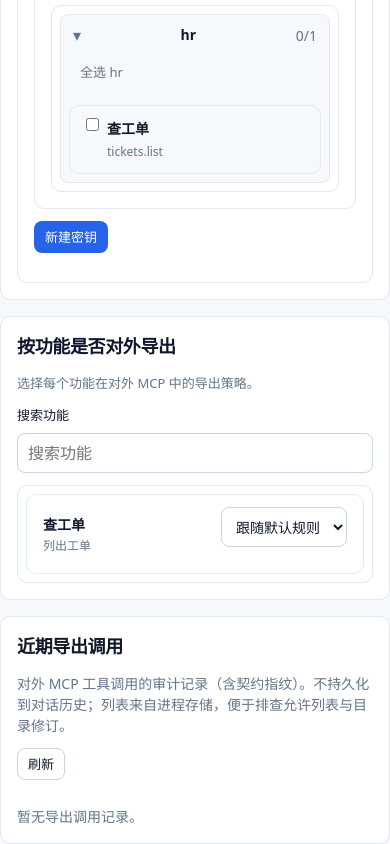
Test: McpExportSettings page › lists tools for per-tool export and patches force_allow
(page scrolled)
Check: the list with test id "mcp-export-tools-list" is shown, box [17, 486, 373, 583]
Check: the element with test id "mcp-export-allowlist-tree" is shown, box [51, 5, 339, 192]
Select "必须导出" in the dropdown named "查工单 导出策略". click: (284, 528)
box: [221, 508, 347, 548]
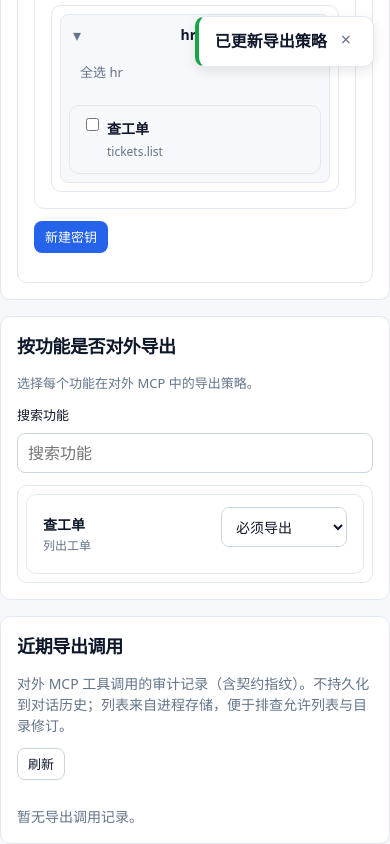
Check: the text "已更新导出策略" is shown, box [215, 29, 327, 54]
